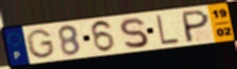6: (90, 19, 119, 55)
8: (57, 24, 82, 57)
G: (25, 28, 57, 60)
L: (155, 13, 182, 46)
P: (182, 8, 211, 44)
S: (118, 17, 150, 51)
